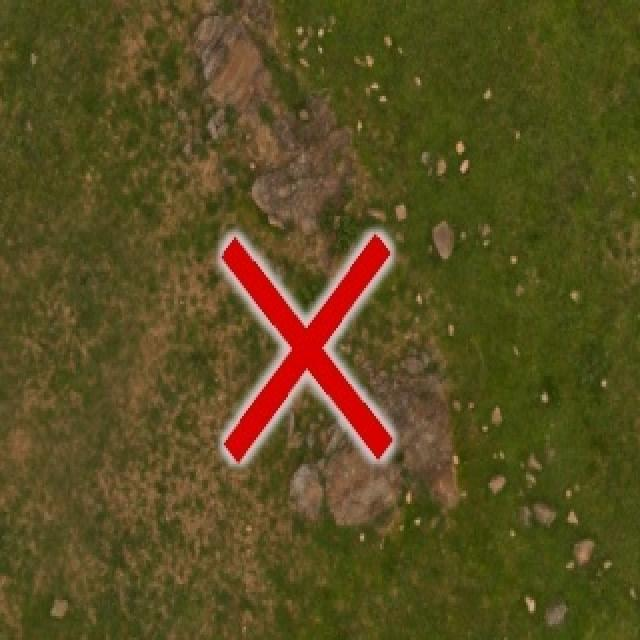x_marker: (221, 233, 391, 460)
